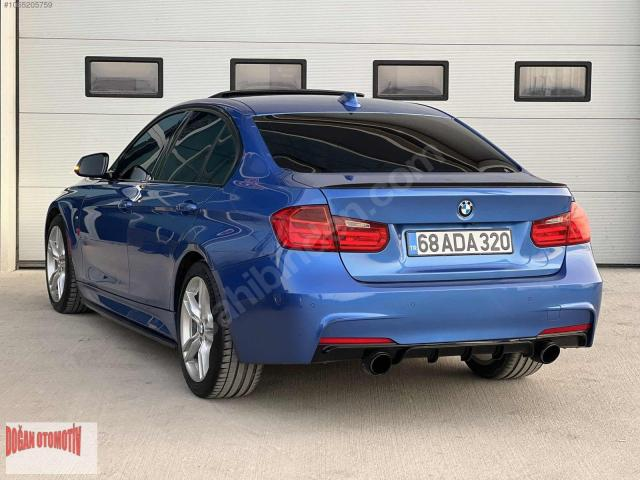plaka: (406, 229, 514, 256)
